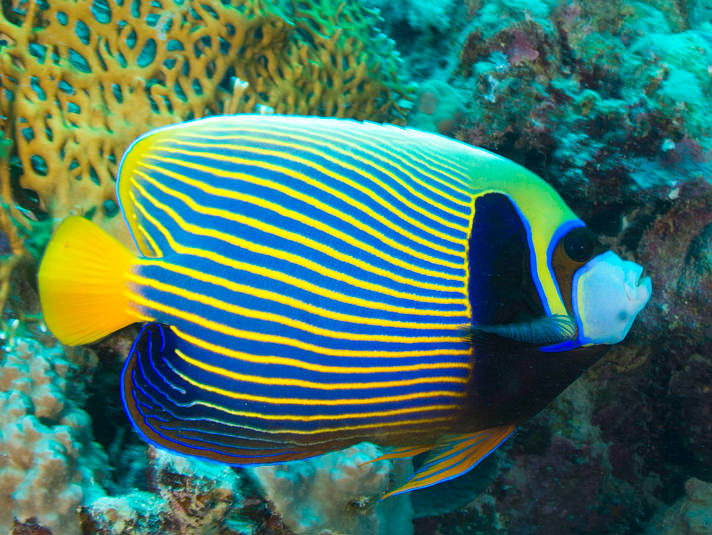Pomacanthus_imperator: (32, 98, 651, 510)
